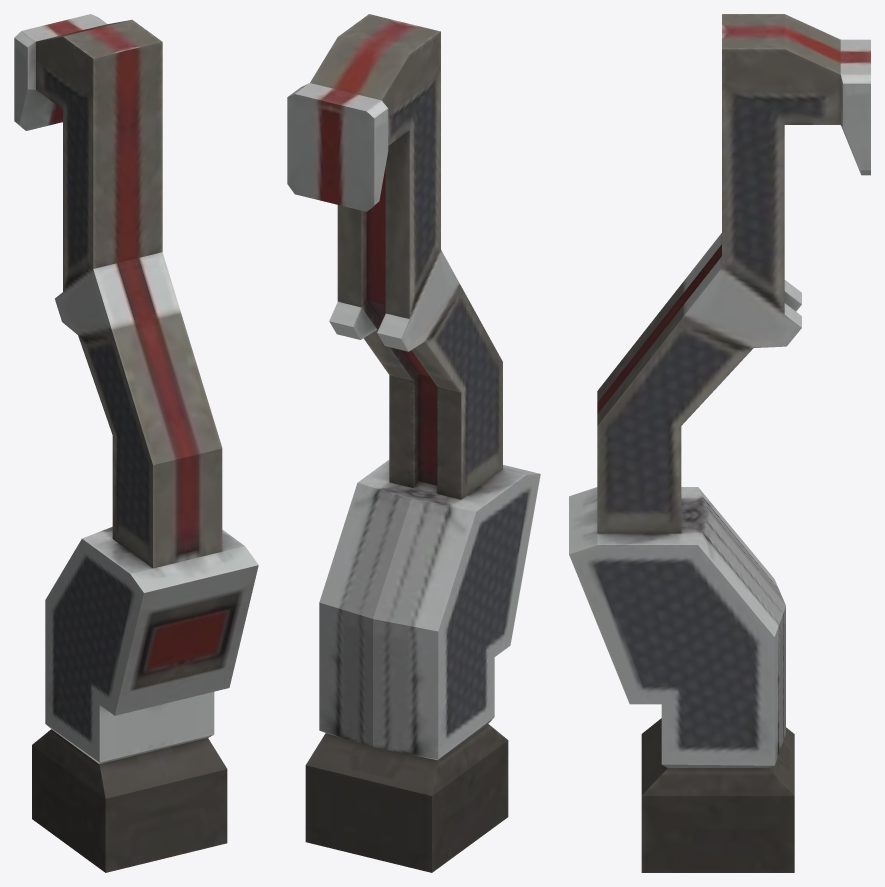
The model's file is Part - Pylon 06-CFSDpMqw.glb.
3 views of the same model, side by side, from view 1: azimuth 30°, elevation 25°; view 2: azimuth 150°, elevation 25°; view 3: azimuth 270°, elevation 25° (orthographic). The views are drawn at different scales.
Parts seen in each view (by area): view 1: Pylon_06; view 2: Pylon_06; view 3: Pylon_06.
Part boxes in pixels (x1,y1,x2,y2): Pylon_06: (14, 14, 258, 872); Pylon_06: (287, 14, 540, 872); Pylon_06: (569, 14, 870, 872).
Size of the model in its own units: 0.3492 by 2.13 by 0.7207.
Materials: 1 (1 with a texture image).
